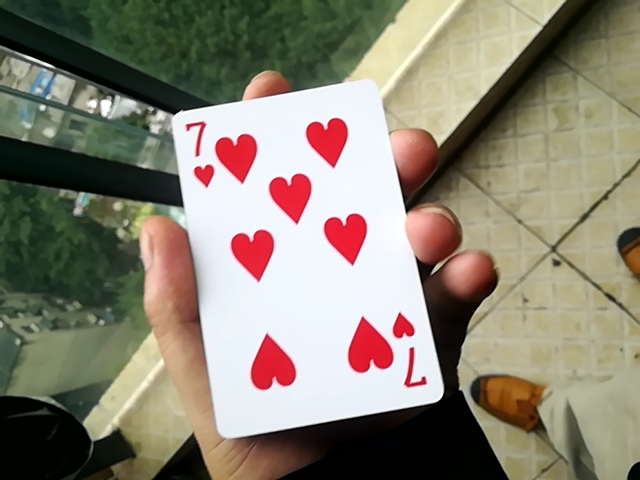hx 7: (159, 80, 442, 437)
